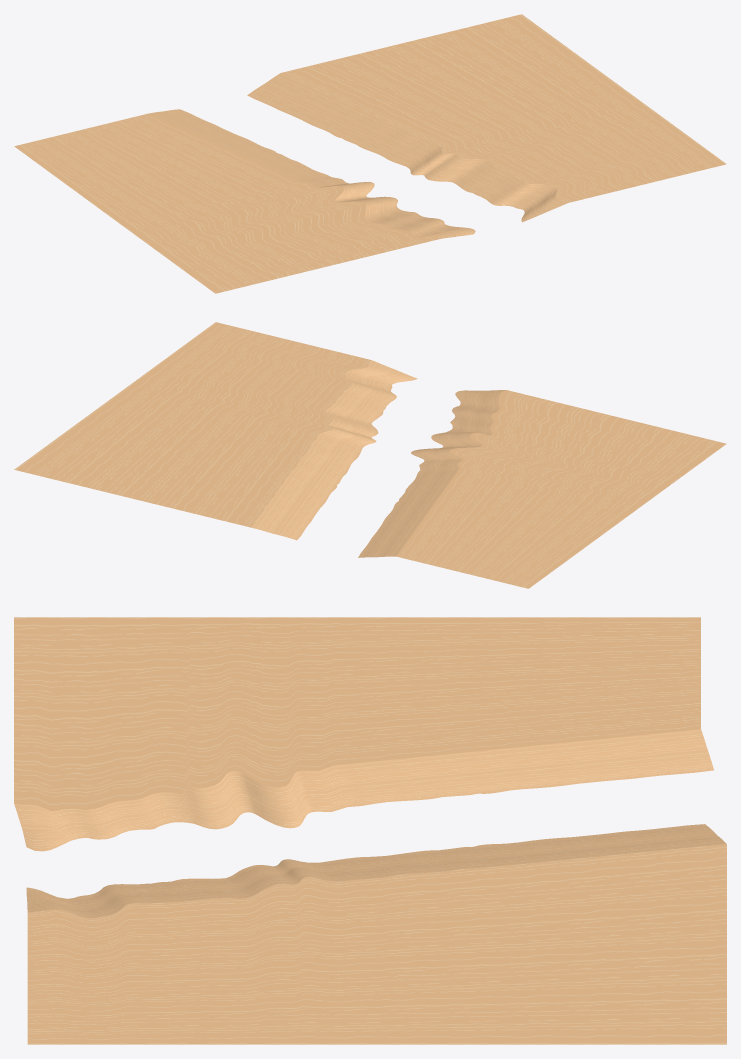
Rendered from Mesh_Battle_Sand_Ground_02.fbx.
3 views of the same model, one above another, from view 1: azimuth 30°, elevation 25°; view 2: azimuth 150°, elevation 25°; view 3: azimuth 270°, elevation 25° (orthographic). The views are drawn at different scales.
Visible parts, largest first — view 1: Mesh_Battle_Sand_Ground_02; view 2: Mesh_Battle_Sand_Ground_02; view 3: Mesh_Battle_Sand_Ground_02.
Part boxes in pixels (x1,y1,x2,y2): Mesh_Battle_Sand_Ground_02: (14,14,726,293); Mesh_Battle_Sand_Ground_02: (14,322,726,588); Mesh_Battle_Sand_Ground_02: (14,617,726,1044).
Bounding box in the file's own units: 5038 × 73.48 × 3540.
